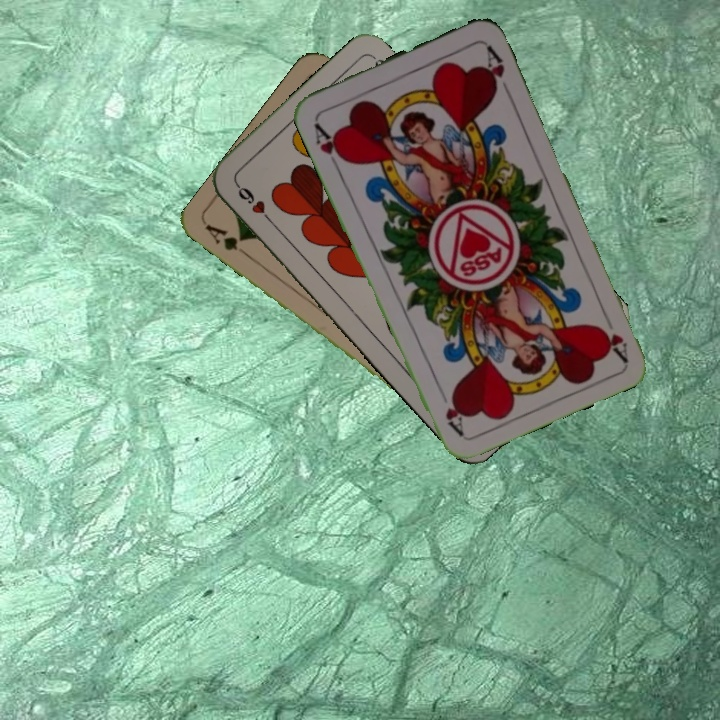GA: (202, 220, 253, 261)
H9: (231, 179, 276, 227)
HA: (310, 116, 349, 172), (597, 306, 631, 363)
